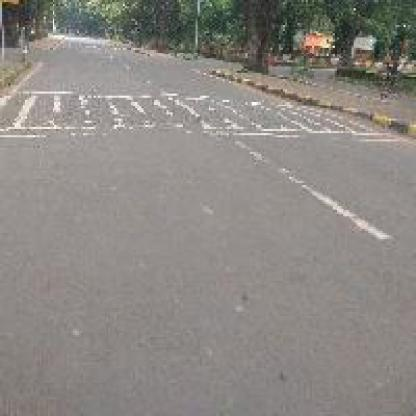Speed Bump: (0, 86, 414, 144)
